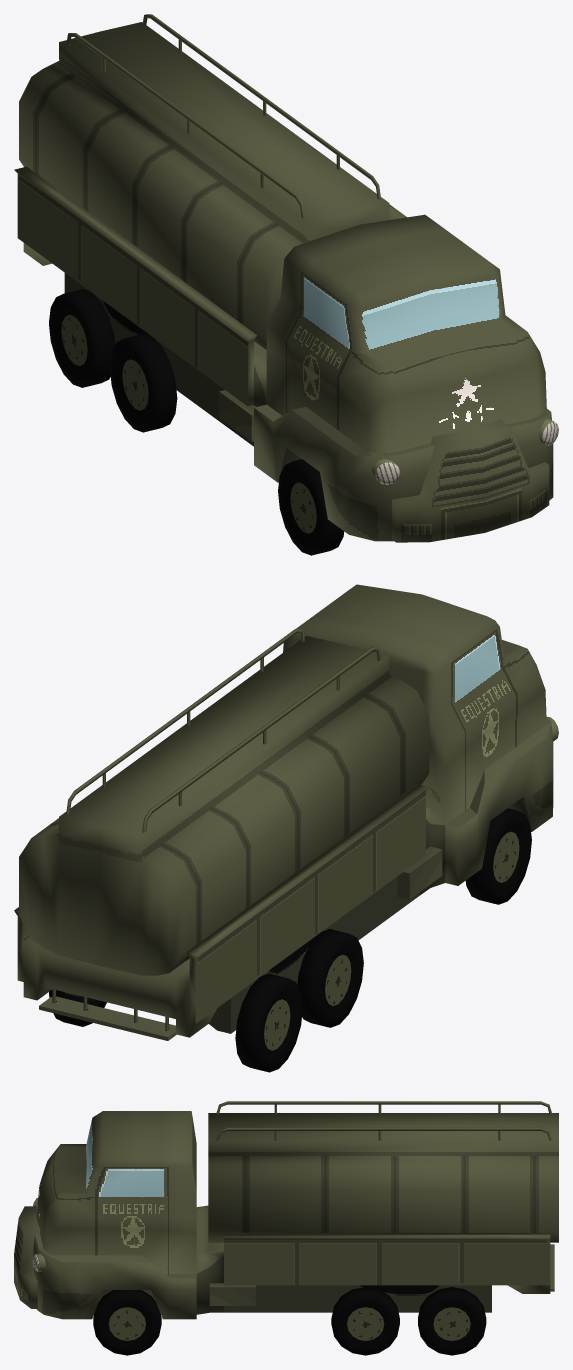
File: truck.glb
The picture shows the model from 3 angles, top to bottom: view 1: azimuth 30°, elevation 25°; view 2: azimuth 150°, elevation 25°; view 3: azimuth 270°, elevation 25°; orthographic projection. The views are drawn at different scales.
Parts seen in each view (by area): view 1: Cube; view 2: Cube; view 3: Cube.
Part boxes in pixels (left/top/right/bottom): Cube: left=14, top=14, right=558, bottom=555; Cube: left=14, top=584, right=558, bottom=1072; Cube: left=14, top=1101, right=558, bottom=1355.
Size of the model in its own units: 10.97 by 14.44 by 34.75.
Materials: 1 (1 with a texture image).
